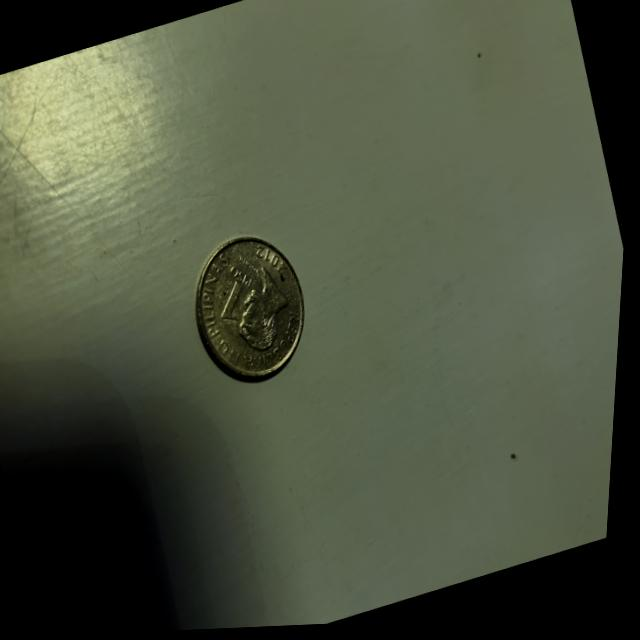1_Old_Front: (206, 257, 269, 329)
